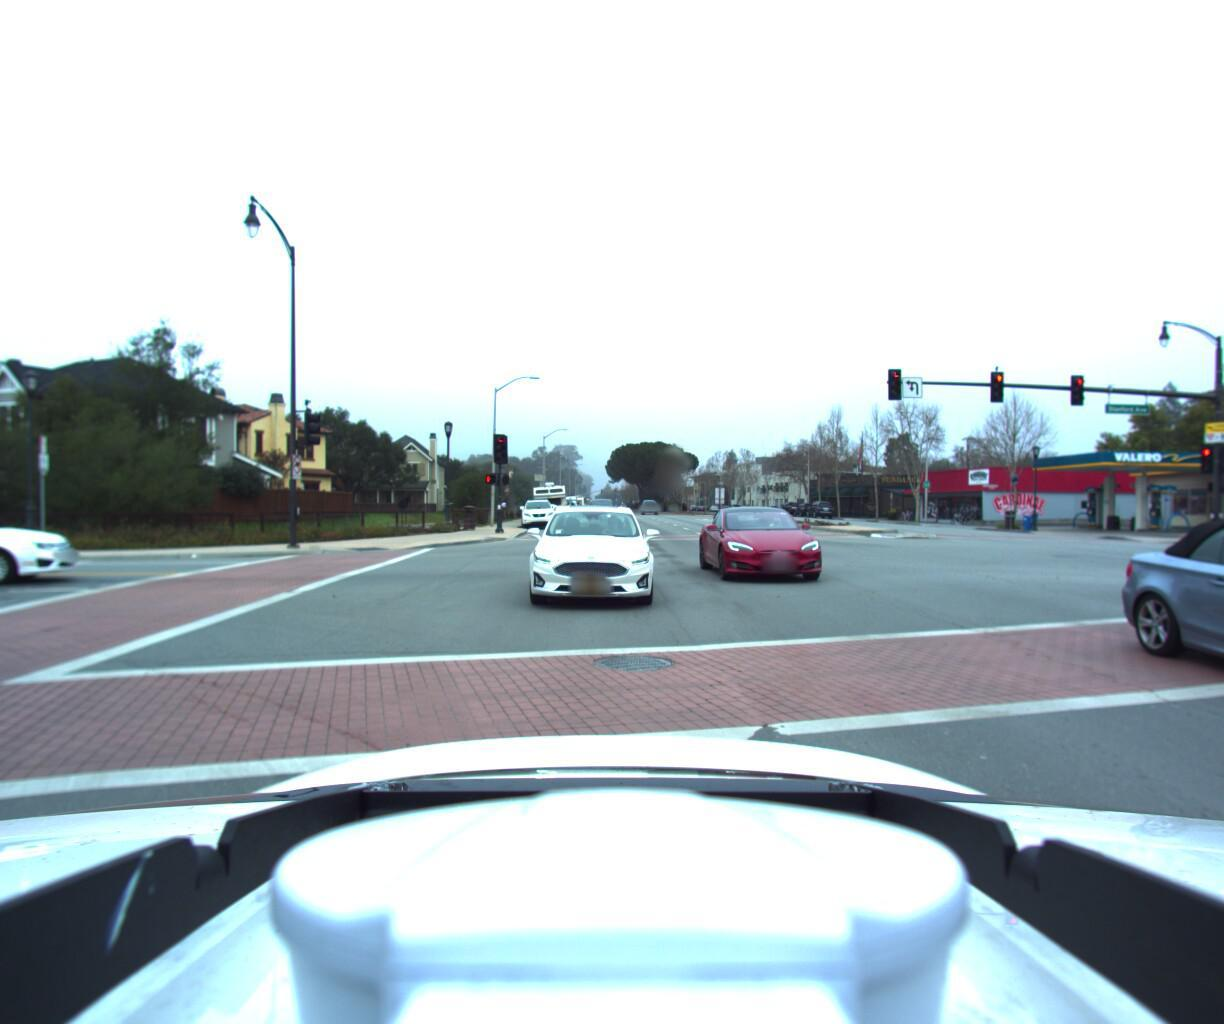bicycle: (966, 504, 990, 519)
car: (516, 498, 654, 608), (699, 500, 854, 589), (0, 497, 95, 595), (1198, 495, 1224, 839), (517, 497, 555, 529)
other_vehicle: (529, 480, 566, 522)
